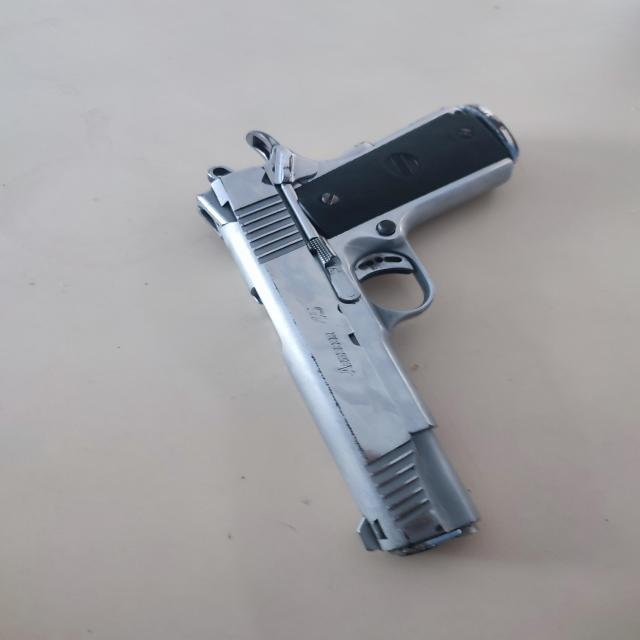pistol: (194, 104, 520, 556)
